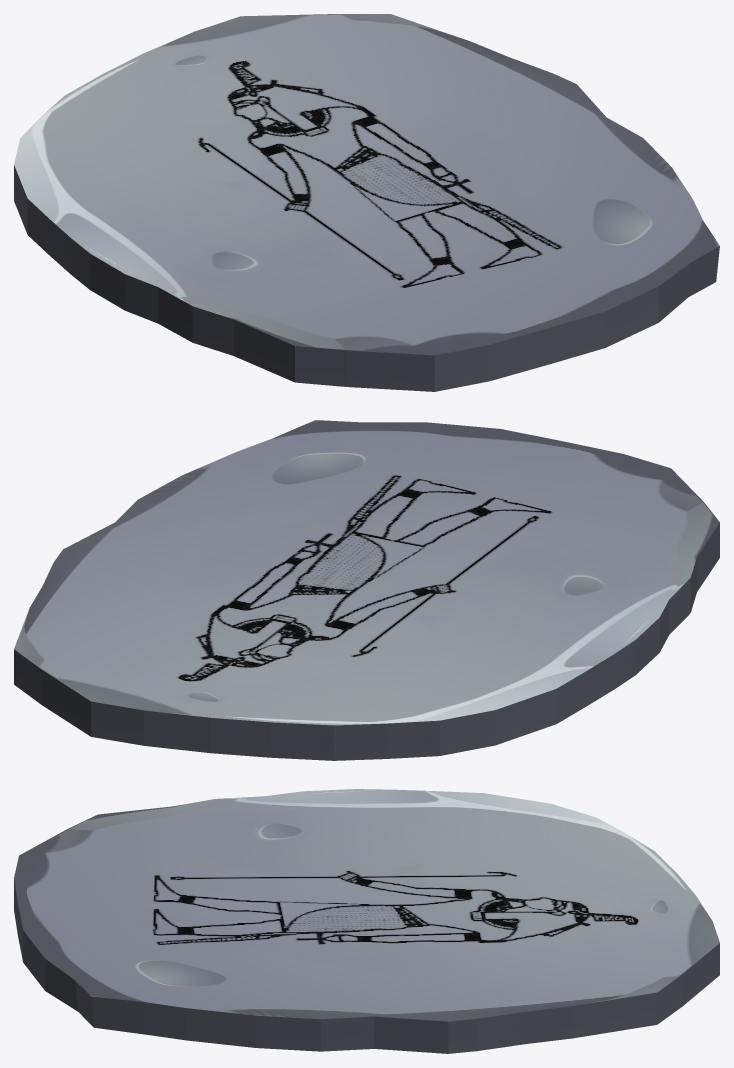
Rendered from runeShu.glb.
3 renders of one model, top to bottom at view 1: azimuth 30°, elevation 25°; view 2: azimuth 150°, elevation 25°; view 3: azimuth 270°, elevation 25°, orthographic. The views are drawn at different scales.
Visible parts, largest first — view 1: rune; view 2: rune; view 3: rune.
Part boxes in pixels (x1,y1,x2,y2): rune: (14, 14, 719, 391); rune: (14, 420, 719, 760); rune: (14, 789, 719, 1053).
Size of the model in its own units: 0.7844 by 0.0509 by 1.01.
Materials: 1 (1 with a texture image).
